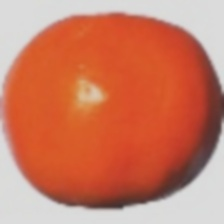tangerine: (24, 46, 196, 205)
